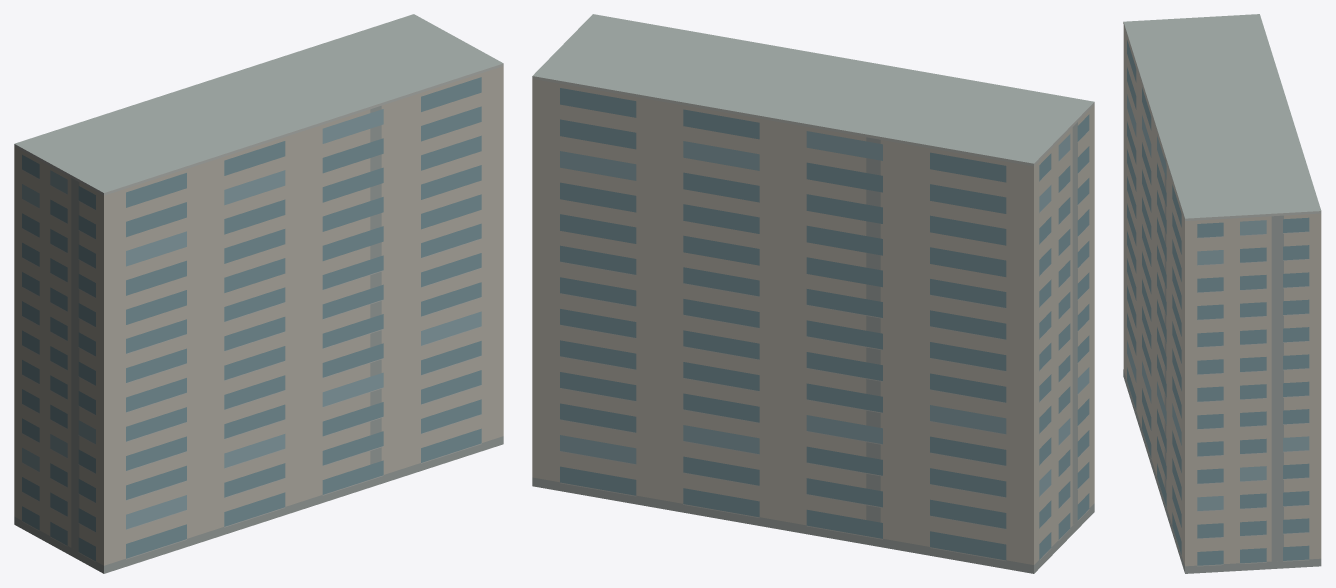
Rendered from residential-db7c3425-d83e-495d-9adf-836368ffebd7.glb.
3 views of the same model, side by side, from view 1: azimuth 30°, elevation 25°; view 2: azimuth 150°, elevation 25°; view 3: azimuth 270°, elevation 25° (orthographic). The views are drawn at different scales.
Parts seen in each view (by area): view 1: residential-db7c3425-d83e-495d-9adf-836368ffebd7.tmp; view 2: residential-db7c3425-d83e-495d-9adf-836368ffebd7.tmp; view 3: residential-db7c3425-d83e-495d-9adf-836368ffebd7.tmp.
Boxes of the visible parts, x1,y1,x2,y2 form: residential-db7c3425-d83e-495d-9adf-836368ffebd7.tmp: (14,14,503,573); residential-db7c3425-d83e-495d-9adf-836368ffebd7.tmp: (532,14,1094,573); residential-db7c3425-d83e-495d-9adf-836368ffebd7.tmp: (1123,14,1321,573).
Size of the model in its own units: 43.24 by 35 by 17.68.
